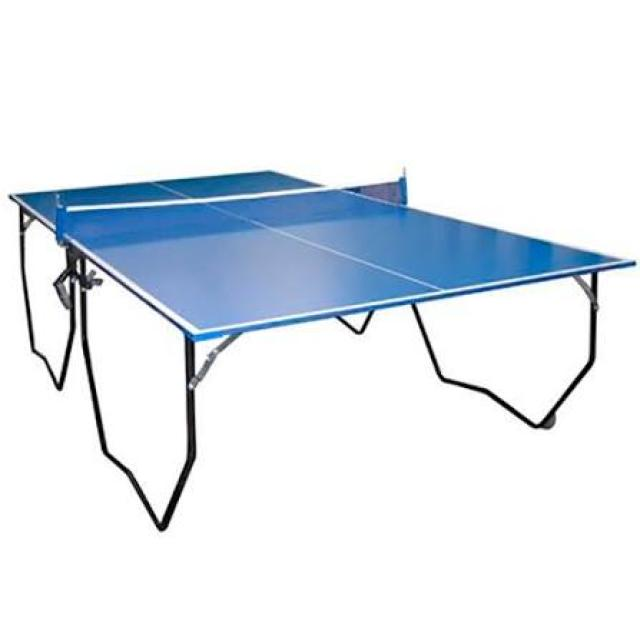TT Net: (51, 173, 413, 248)
TT Table: (9, 170, 632, 333)
